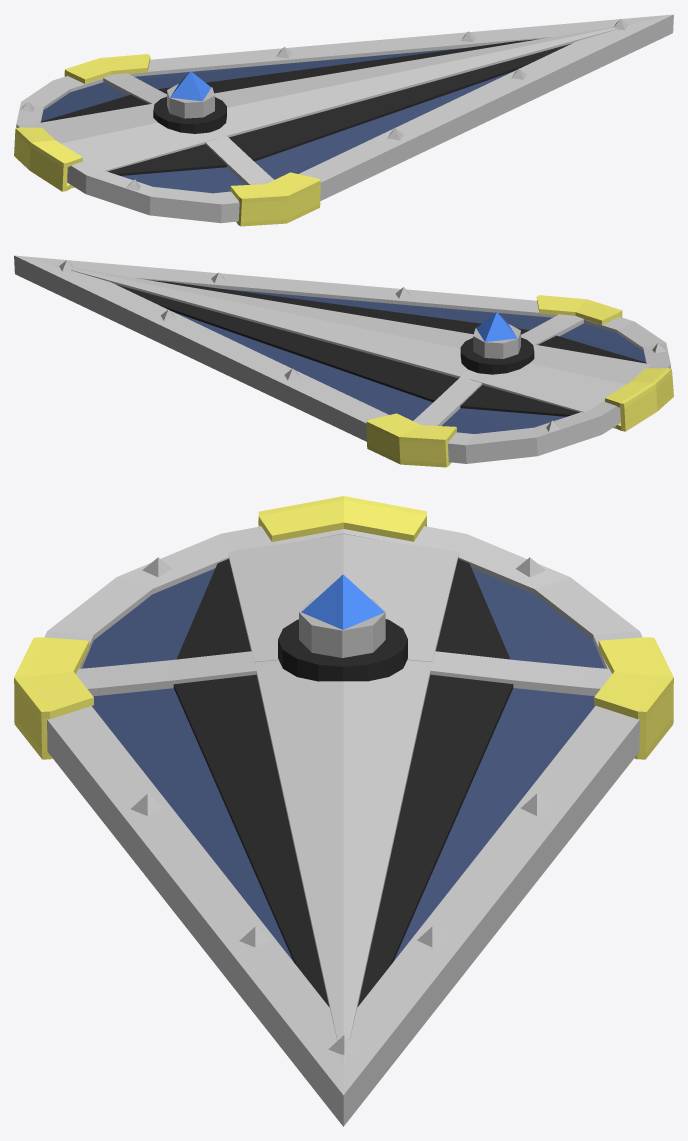
Rendered from Shield_3_d_bl.fbx.
The picture shows the model from 3 angles, top to bottom: view 1: azimuth 30°, elevation 25°; view 2: azimuth 150°, elevation 25°; view 3: azimuth 270°, elevation 25°; orthographic projection. The views are drawn at different scales.
Visible parts, largest first — view 1: Circle.340, Circle.344, Circle.336, Circle.339, Circle.334, Circle.335, Circle.343, Circle.333, Circle.341, Circle.342, Cone.403; view 2: Circle.340, Circle.344, Circle.336, Circle.339, Circle.333, Circle.335, Circle.343, Circle.334, Circle.341, Circle.342, Cone.403; view 3: Circle.340, Circle.344, Circle.336, Circle.339, Circle.343, Circle.333, Circle.334, Circle.335, Circle.341, Circle.342, Cone.403.
Part boxes in pixels (<box>): Circle.340: <box>16,14,673,223</box>; Circle.344: <box>36,23,636,171</box>; Circle.336: <box>40,39,571,175</box>; Circle.339: <box>41,48,513,193</box>; Circle.334: <box>230,172,320,226</box>; Circle.335: <box>14,127,82,191</box>; Circle.343: <box>103,73,273,184</box>; Circle.333: <box>64,54,150,83</box>; Circle.341: <box>153,96,226,133</box>; Circle.342: <box>167,83,214,118</box>; Cone.403: <box>170,71,211,101</box>; Circle.340: <box>14,255,670,463</box>; Circle.344: <box>51,264,650,412</box>; Circle.336: <box>116,280,646,416</box>; Circle.339: <box>174,289,645,433</box>; Circle.333: <box>366,413,456,467</box>; Circle.335: <box>605,368,673,431</box>; Circle.343: <box>413,314,583,425</box>; Circle.334: <box>536,295,622,324</box>; Circle.341: <box>460,337,534,374</box>; Circle.342: <box>473,324,520,358</box>; Cone.403: <box>476,312,517,341</box>; Circle.340: <box>44,526,642,1126</box>; Circle.344: <box>228,534,458,1063</box>; Circle.336: <box>173,559,513,1006</box>; Circle.339: <box>82,568,604,961</box>; Circle.343: <box>76,651,611,696</box>; Circle.333: <box>594,637,673,759</box>; Circle.334: <box>14,637,93,759</box>; Circle.335: <box>258,496,426,541</box>; Circle.341: <box>278,619,407,681</box>; Circle.342: <box>299,598,385,657</box>; Cone.403: <box>301,574,384,629</box>.
Bounding box in the file's own units: 150 × 24.67 × 76.07.
